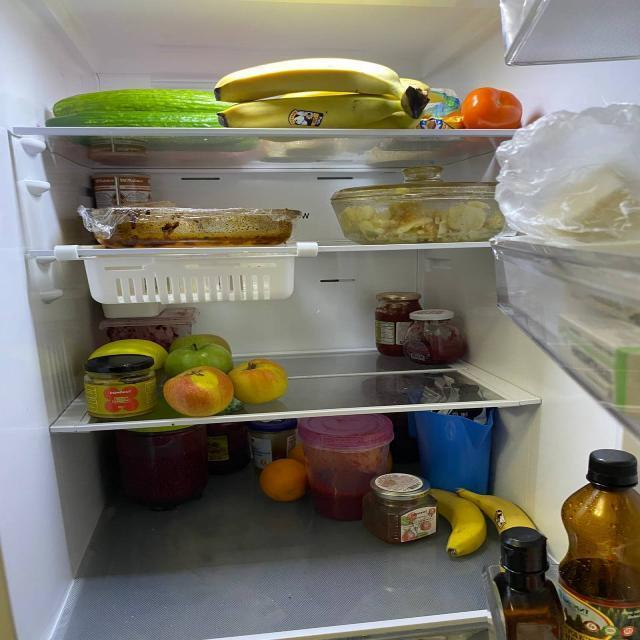apple: (156, 366, 239, 416), (228, 357, 296, 402), (170, 331, 238, 367), (166, 343, 236, 375)
banana: (218, 63, 430, 132), (412, 475, 490, 557), (456, 479, 552, 530), (464, 86, 522, 126), (446, 101, 474, 129)
cucumber: (42, 87, 252, 112), (36, 108, 255, 129)
orange: (257, 461, 315, 502), (285, 443, 320, 465)
